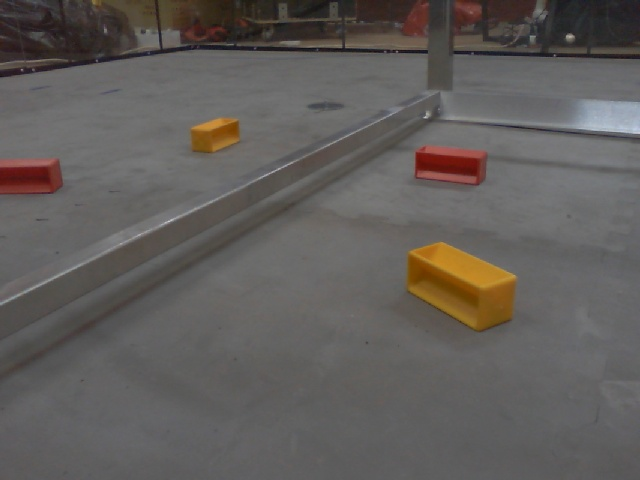RedSample: (414, 142, 487, 187), (1, 154, 67, 197)
YellowSample: (403, 240, 520, 333), (192, 115, 241, 154)
